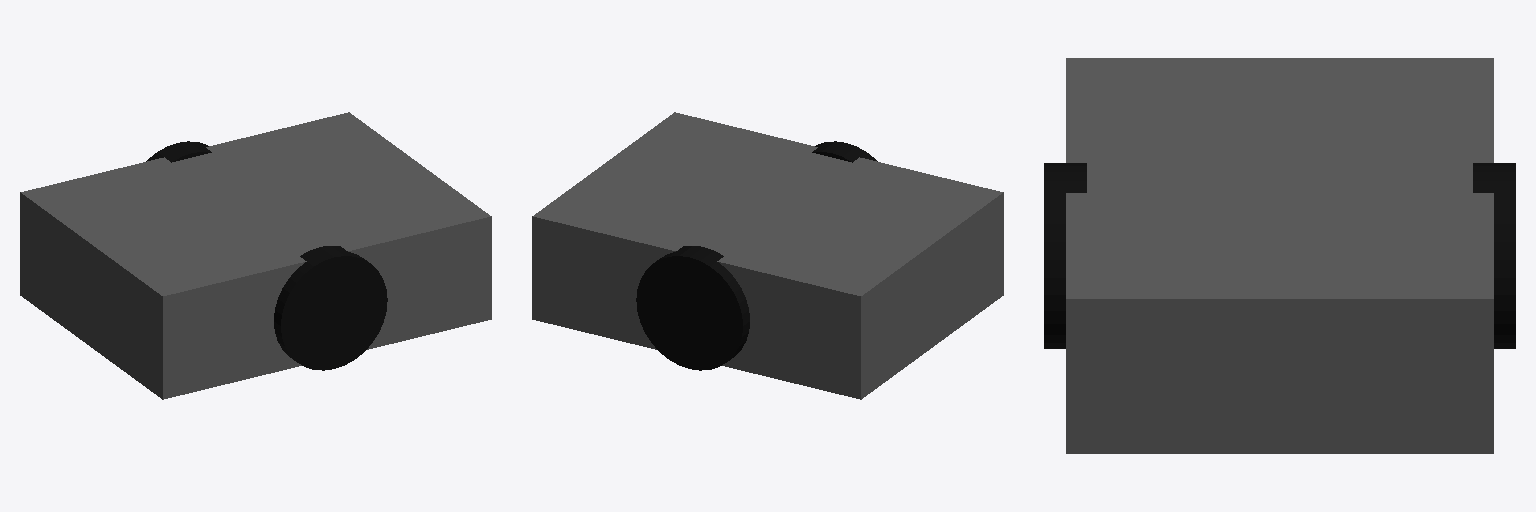
robot.urdf — uel_rover:
<?xml version="1.0"?>
<!-- ═══════════════════════════════════════════════════════════════
     UEL Rover URDF (TF 정의용)
       base_link (차체 중심, 기준 프레임)   ← odom_publisher가 odom→base_link 발행
        ├─ left_wheel_link
        ├─ right_wheel_link
        └─ camera_link (RealSense D455 장착 위치)

     ※ base_footprint 없이 base_link를 로봇 기준 프레임으로 사용
        (odom_publisher가 odom→base_link 를 발행하므로 프레임 통일)
     ※ 아래 치수/카메라 위치는 실측 후 수정
        - wheel_radius : 0.065 m,  wheel_base : 0.30 m
        - 카메라: 차체 앞 0.20m, base_link 기준 높이 0.135m, 정면 주시
     ═══════════════════════════════════════════════════════════════ -->
<robot name="uel_rover">

  <!-- 차체 중심 = 로봇 기준 프레임 -->
  <link name="base_link">
    <visual>
      <geometry>
        <box size="0.40 0.30 0.12"/>
      </geometry>
      <material name="gray">
        <color rgba="0.4 0.4 0.4 1.0"/>
      </material>
    </visual>
    <collision>
      <geometry>
        <box size="0.40 0.30 0.12"/>
      </geometry>
    </collision>
  </link>

  <!-- 좌측 바퀴 -->
  <link name="left_wheel_link">
    <visual>
      <geometry>
        <cylinder radius="0.065" length="0.03"/>
      </geometry>
      <material name="black">
        <color rgba="0.1 0.1 0.1 1.0"/>
      </material>
    </visual>
  </link>
  <joint name="left_wheel_joint" type="fixed">
    <parent link="base_link"/>
    <child  link="left_wheel_link"/>
    <origin xyz="0 0.15 0" rpy="-1.5708 0 0"/>
  </joint>

  <!-- 우측 바퀴 -->
  <link name="right_wheel_link">
    <visual>
      <geometry>
        <cylinder radius="0.065" length="0.03"/>
      </geometry>
      <material name="black">
        <color rgba="0.1 0.1 0.1 1.0"/>
      </material>
    </visual>
  </link>
  <joint name="right_wheel_joint" type="fixed">
    <parent link="base_link"/>
    <child  link="right_wheel_link"/>
    <origin xyz="0 -0.15 0" rpy="-1.5708 0 0"/>
  </joint>

  <!-- RealSense D455 장착 위치 (실측 후 수정) -->
  <link name="camera_link"/>
  <joint name="camera_joint" type="fixed">
    <parent link="base_link"/>
    <child  link="camera_link"/>
    <origin xyz="0.20 0 0.135" rpy="0 0 0"/>
  </joint>

</robot>

--- What the picture shows (computed from the rendered views, not written in the file) ---
The picture shows the robot from 3 angles, left to right: view 1: azimuth 30°, elevation 25°; view 2: azimuth 150°, elevation 25°; view 3: azimuth 270°, elevation 25°; orthographic projection.
Robot: uel_rover — 4 links, 3 joints (3 fixed); root link base_link; default pose: all joints at 0.
Links seen in each view (by area): view 1: base_link, right_wheel_link, left_wheel_link; view 2: base_link, left_wheel_link, right_wheel_link; view 3: base_link, left_wheel_link, right_wheel_link.
Link boxes in pixels (<box>): base_link: <box>20,112,491,399</box>; right_wheel_link: <box>274,246,387,370</box>; left_wheel_link: <box>146,141,211,162</box>; base_link: <box>532,112,1003,399</box>; left_wheel_link: <box>636,246,749,370</box>; right_wheel_link: <box>812,141,877,162</box>; base_link: <box>1066,58,1493,453</box>; left_wheel_link: <box>1473,163,1515,348</box>; right_wheel_link: <box>1044,163,1086,348</box>.
Bounding box of the posed robot: 0.4 × 0.33 × 0.13 m (x, y, z).
Geometry: primitives only (box / cylinder / sphere), no mesh files.
